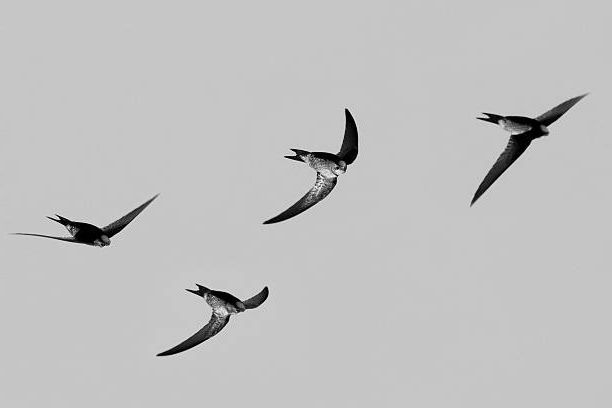Bird: (469, 90, 587, 209), (261, 104, 360, 227), (153, 278, 272, 358), (9, 189, 160, 251)
